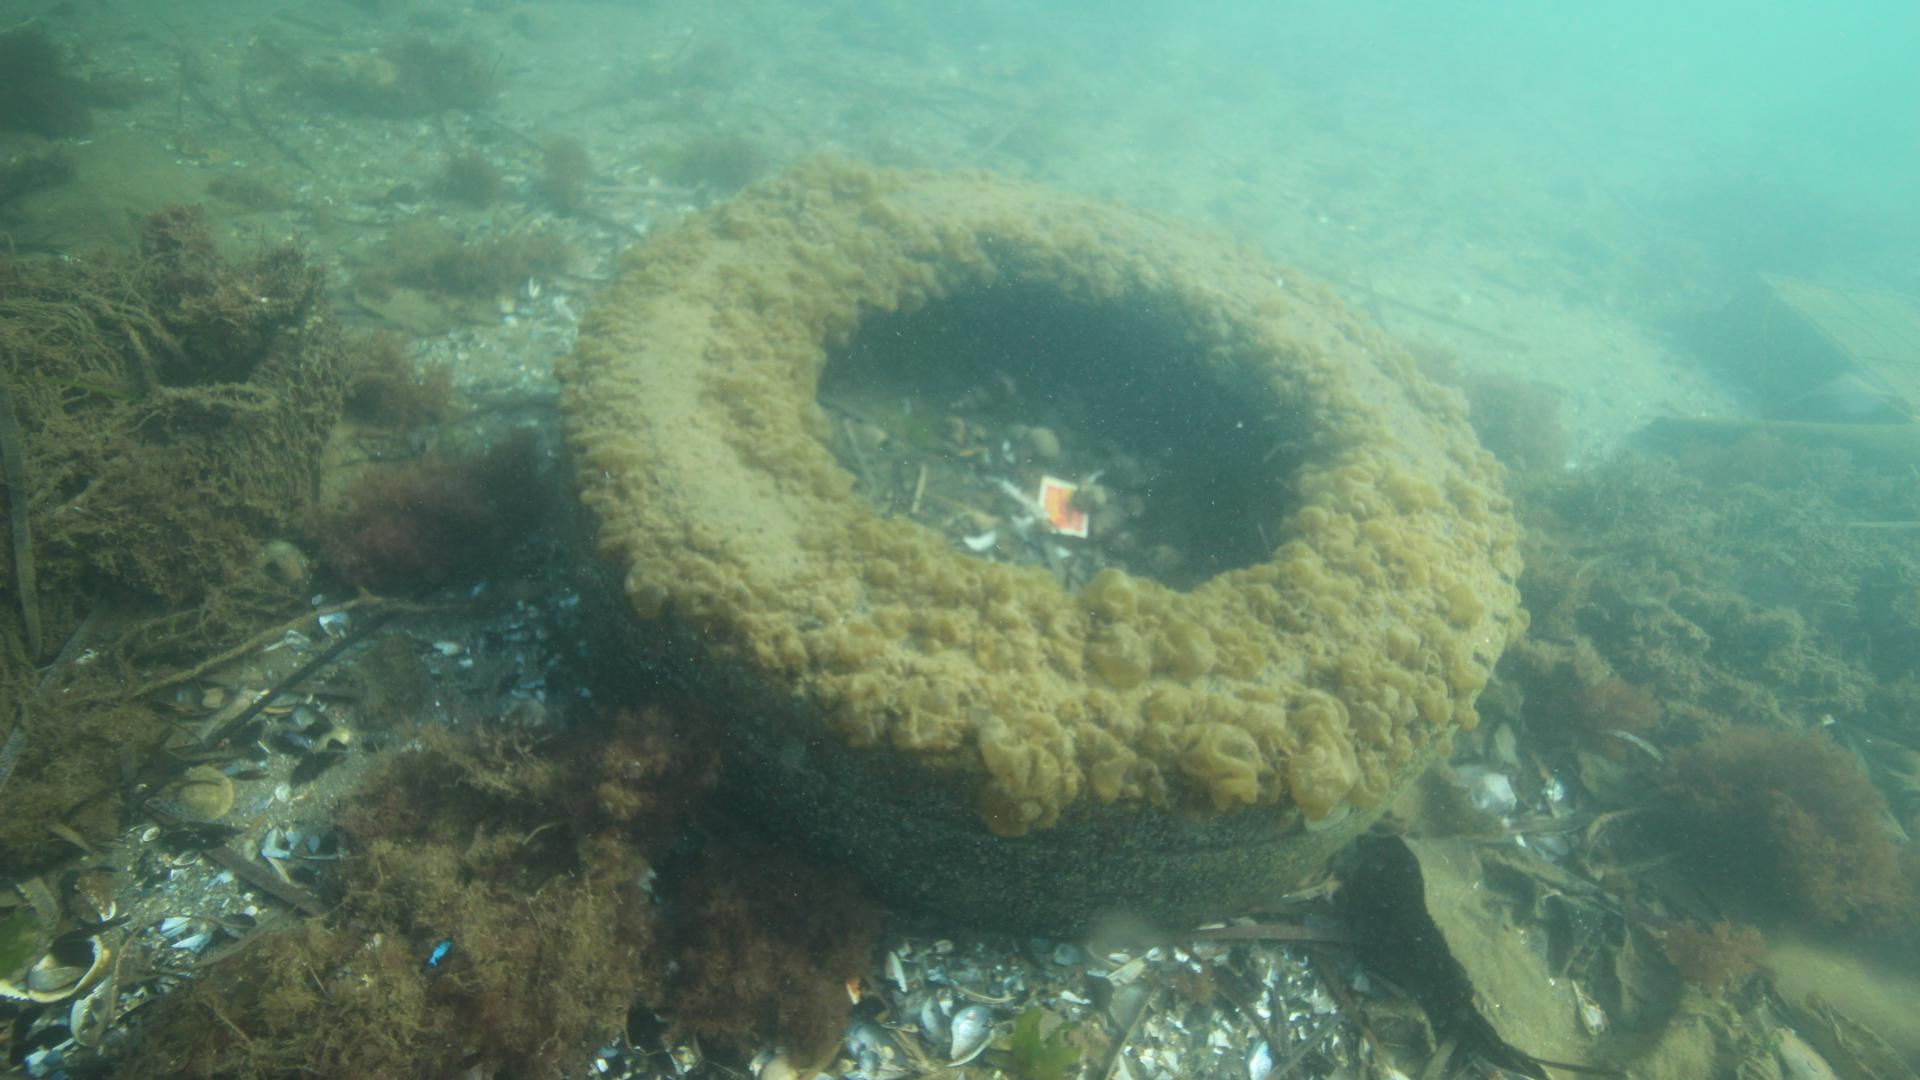tire: (582, 171, 1520, 928)
